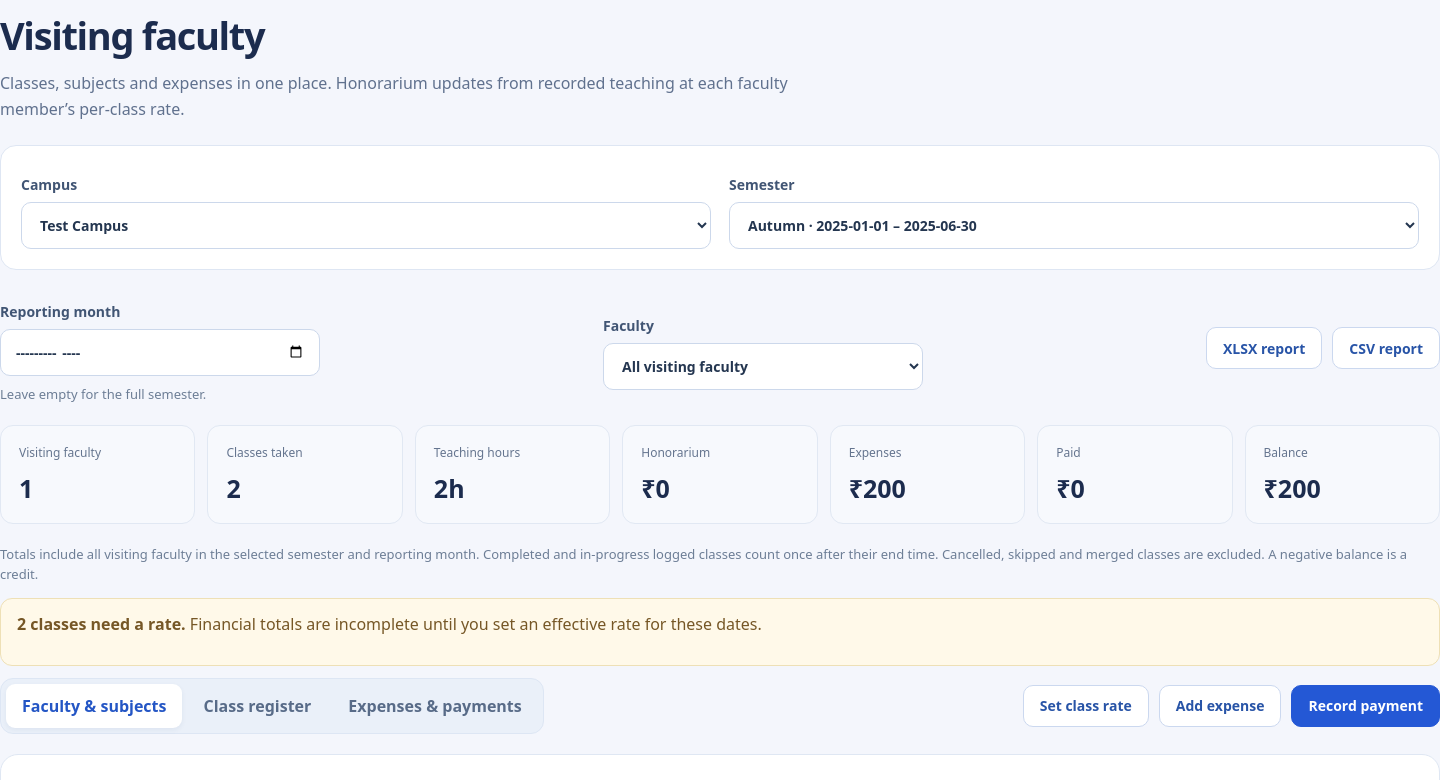
Scenario: shows incomplete financial totals and saves a per-class effective rate to the selected semester
Expected: the text "2 classes need a rate." is shown, [17,613,186,635]
Click the button "Set class rate" at (1086, 706), box [1023,685,1149,727]
(page scrolled)
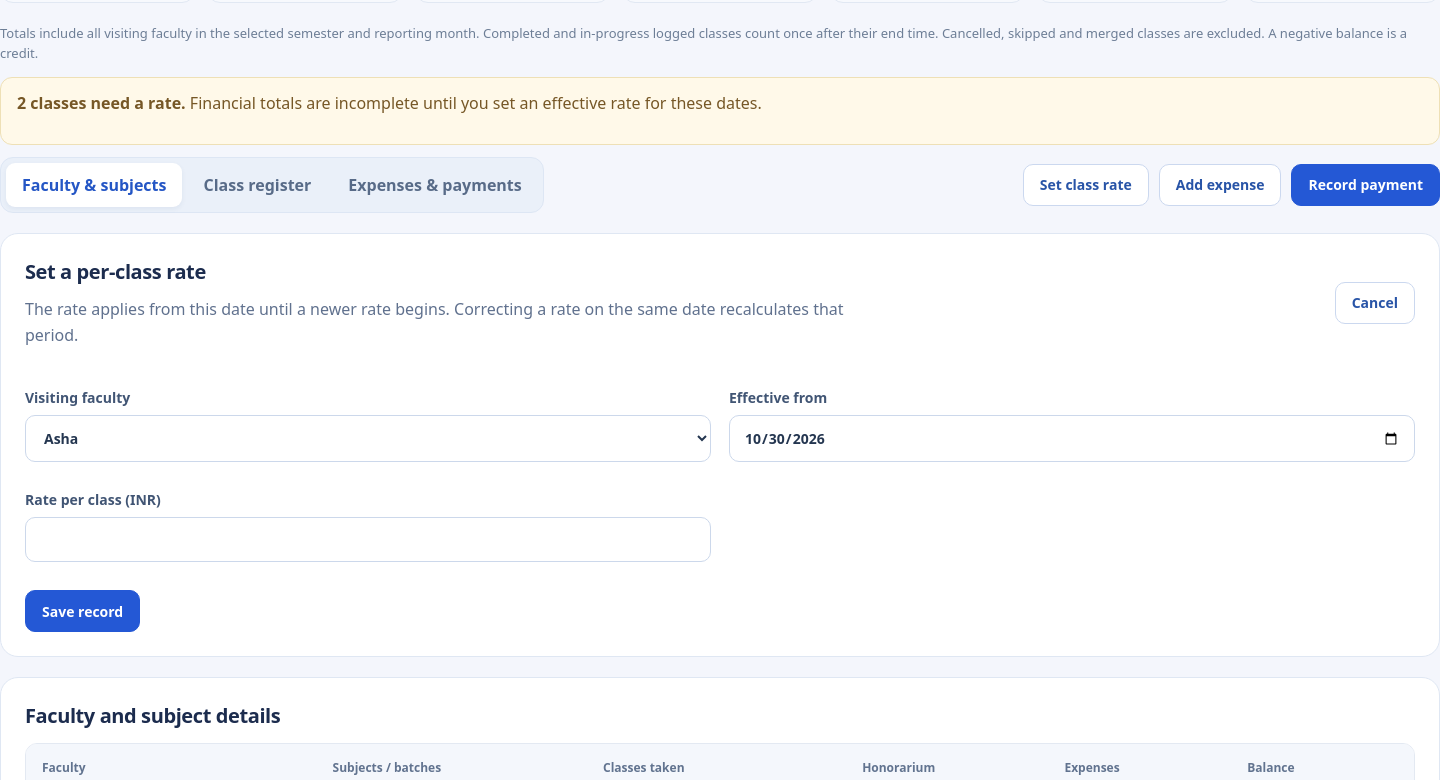
Type "2025-01-01" into the date field labelled "Effective from" at (1072, 439), box [729,415,1415,462]
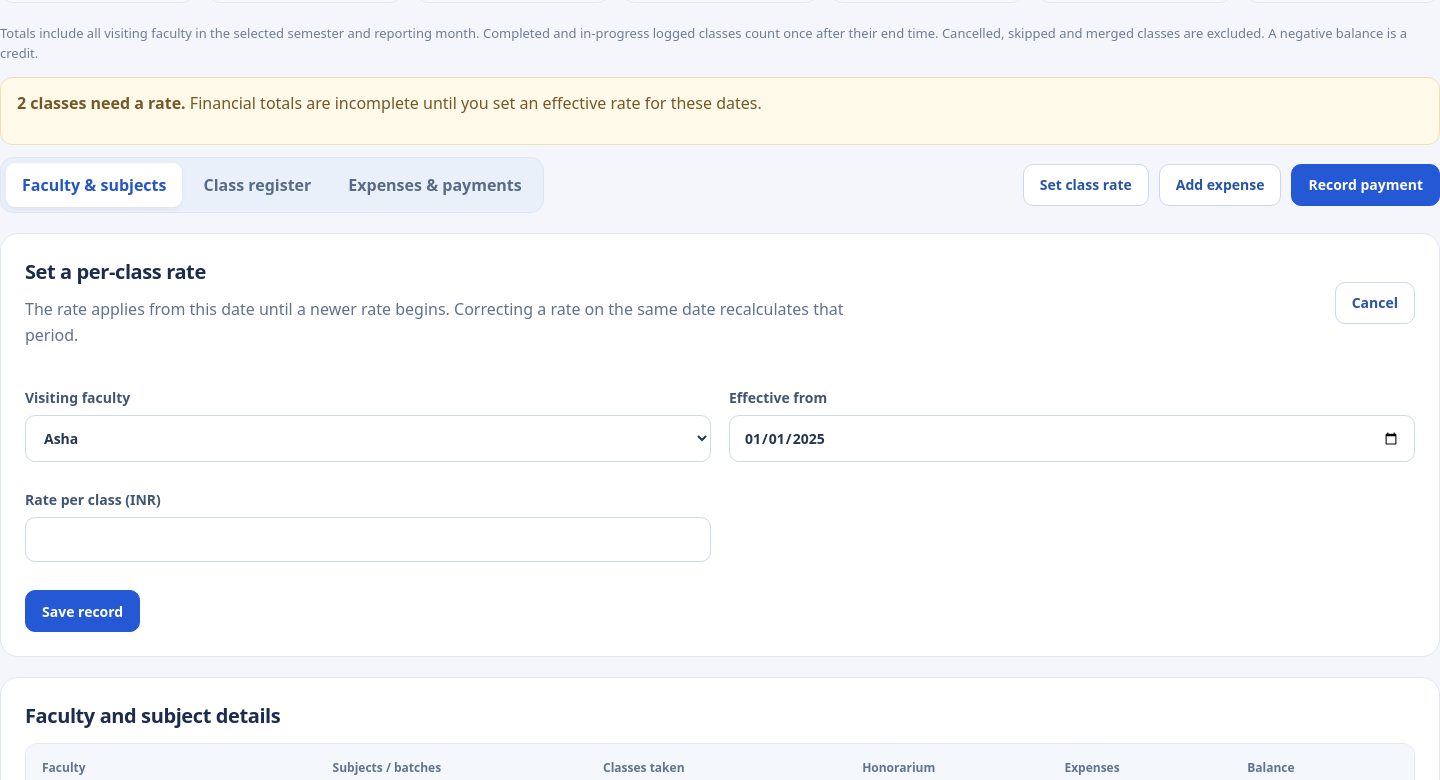
Type "1500" into the number field labelled "Rate per class (INR)" at (368, 540), box [25,517,711,562]
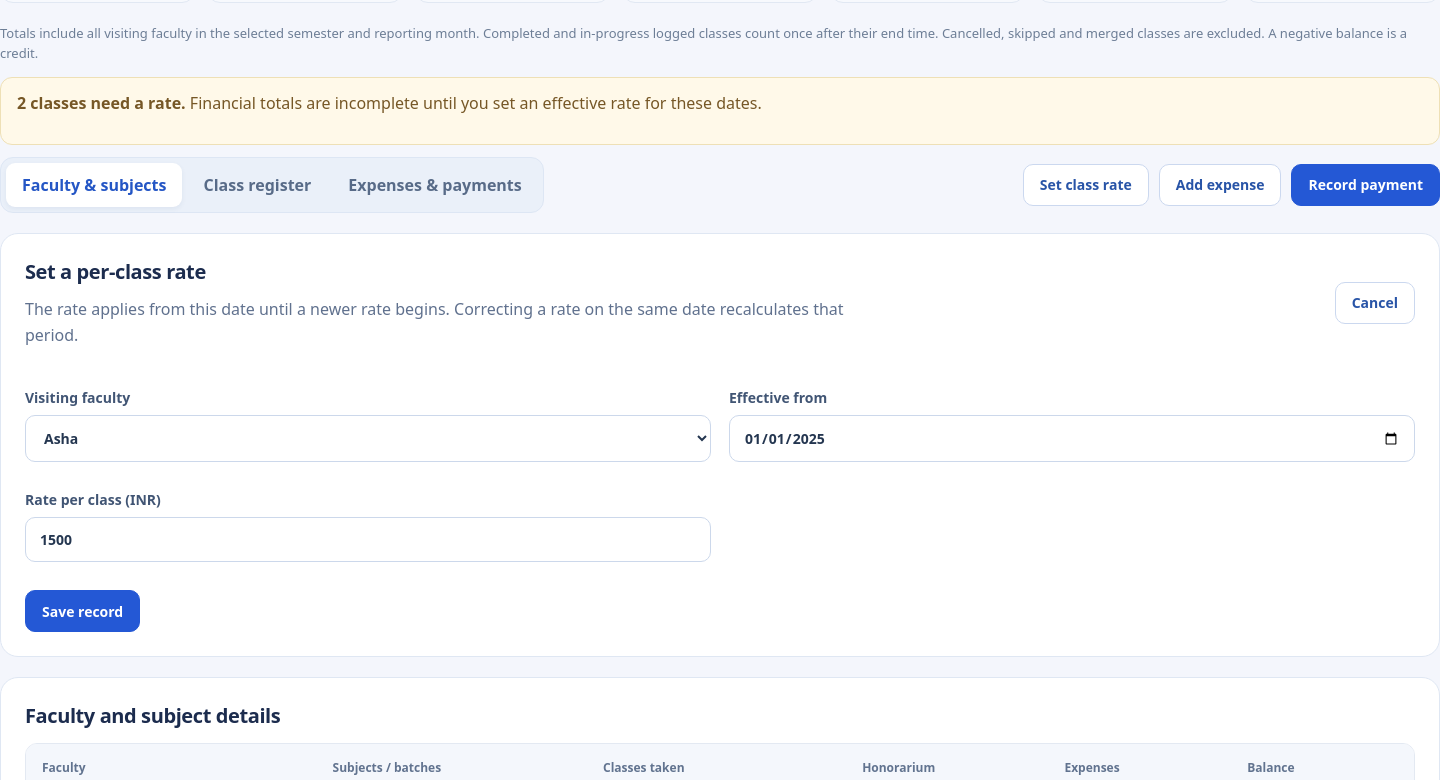
Click the button "Save record" at (83, 611), box [25,590,140,632]
(page scrolled)
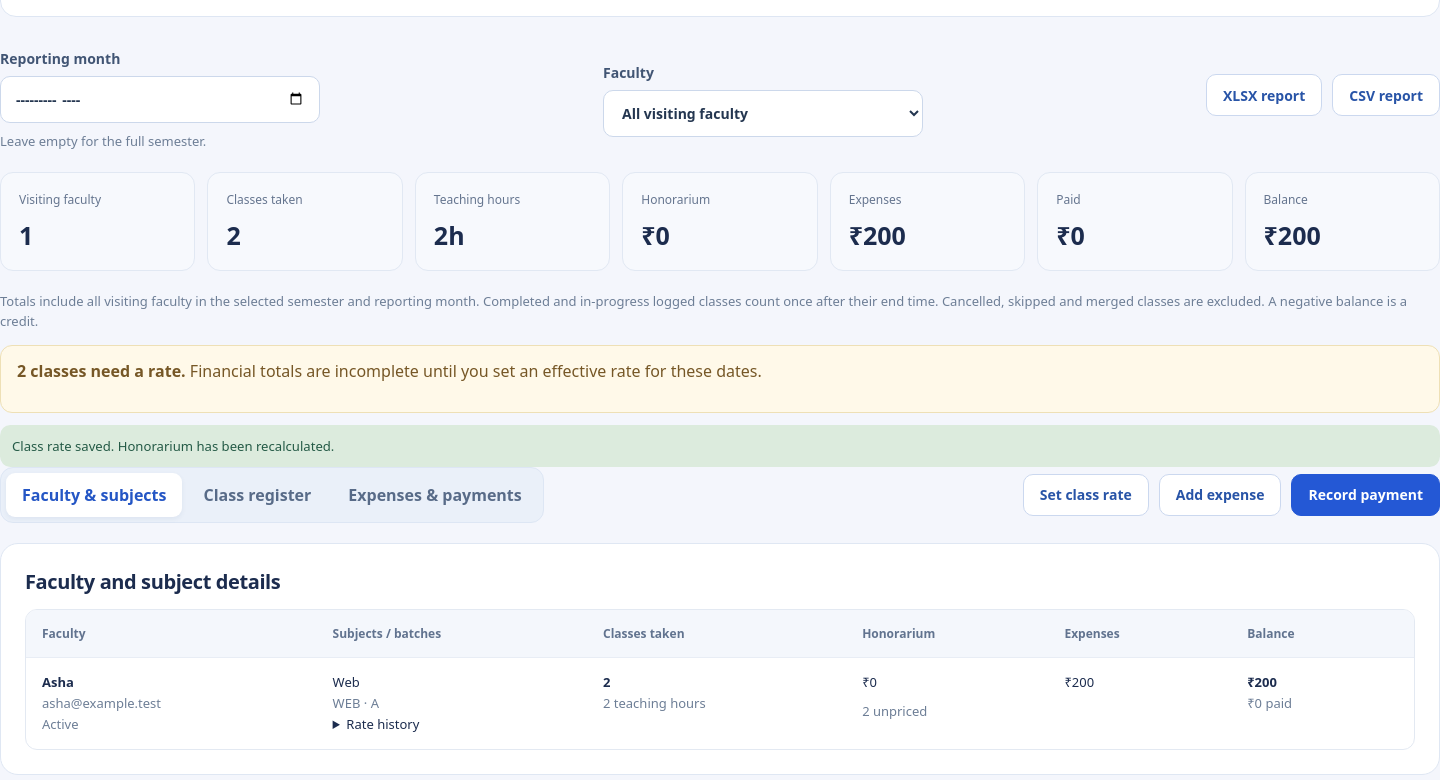
Result: the text "Class rate saved. Honorarium has been recalculated." is shown at [0,425,1439,467]
